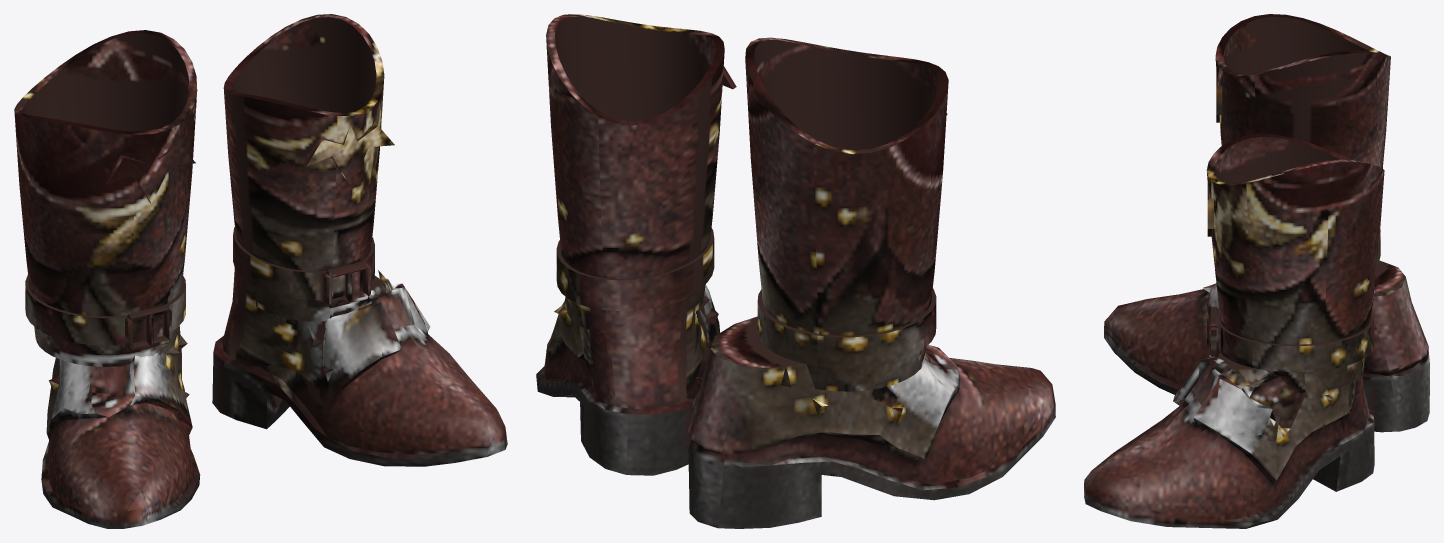
Rendered from item_6boots6.glb.
3 renders of one model, left to right at view 1: azimuth 30°, elevation 25°; view 2: azimuth 150°, elevation 25°; view 3: azimuth 270°, elevation 25°, orthographic. The views are drawn at different scales.
Visible parts, largest first — view 1: equipment_6boots5; view 2: equipment_6boots5; view 3: equipment_6boots5.
Boxes of the visible parts, box(x1,y1,x2,y2) form: equipment_6boots5: box(14, 14, 507, 528); equipment_6boots5: box(536, 14, 1055, 528); equipment_6boots5: box(1084, 14, 1429, 528).
Bounding box in the file's own units: 1 × 0.9249 × 0.7826.
Materials: 1 (1 with a texture image).
